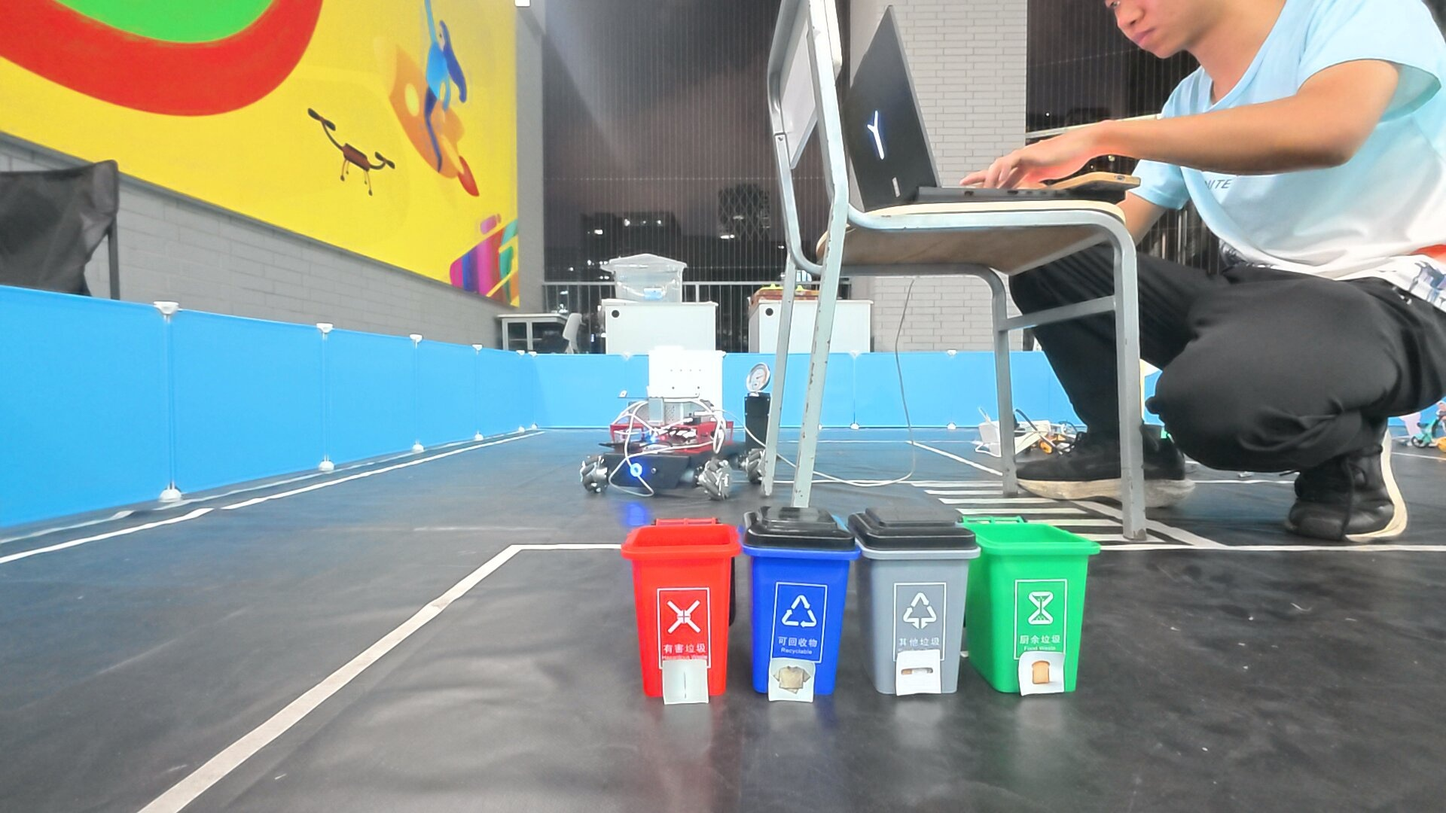food_trash: (1023, 654, 1062, 694)
hazardous_trash: (665, 664, 704, 699)
other_trash: (897, 655, 939, 690)
recyclable_trash: (772, 660, 810, 697)
